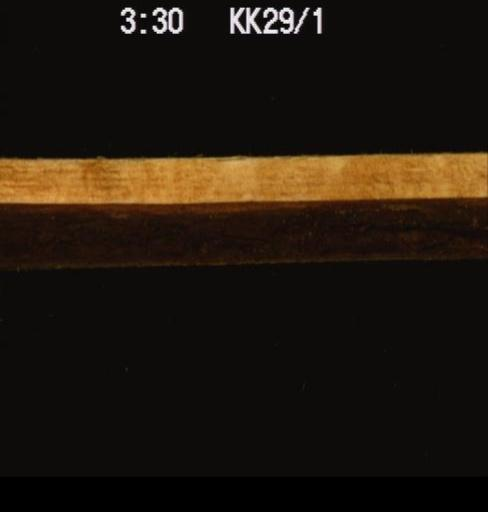wave: (0, 193, 486, 264)
